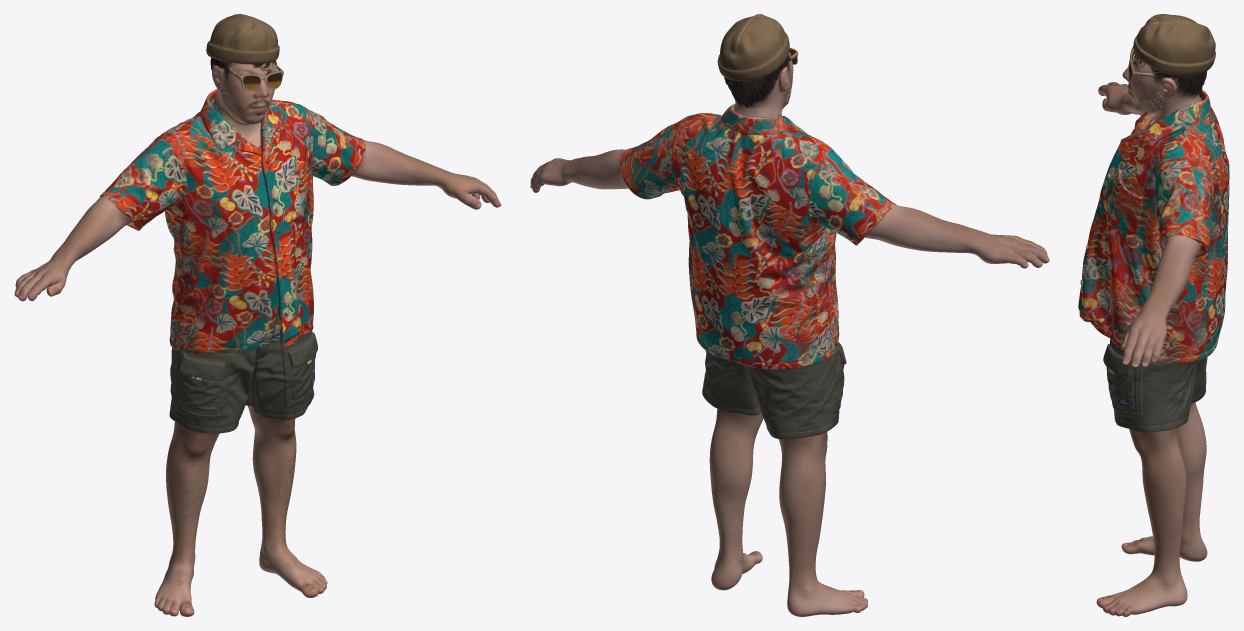
Rendered from tropical.glb.
3 views of the same model, side by side, from view 1: azimuth 30°, elevation 25°; view 2: azimuth 150°, elevation 25°; view 3: azimuth 270°, elevation 25° (orthographic). The views are drawn at different scales.
Size of the model in its own units: 1.74 by 1.9 by 0.4536.
Materials: 1 (1 with a texture image).
